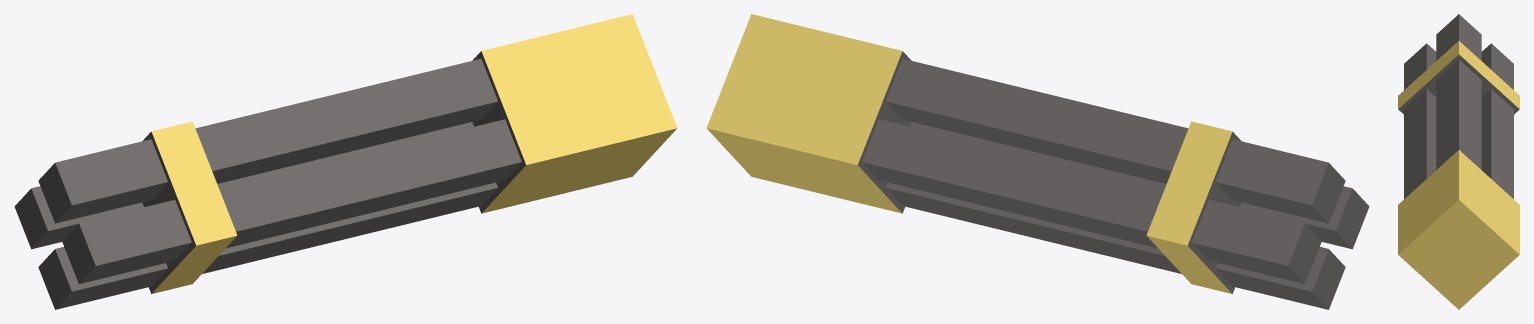
Rendered from dante_barrelfbx.fbx.
3 renders of one model, left to right at view 1: azimuth 30°, elevation 25°; view 2: azimuth 150°, elevation 25°; view 3: azimuth 270°, elevation 25°, orthographic. The views are drawn at different scales.
Visible parts, largest first — view 1: mesh, mesh_1, mesh_3, mesh_2, mesh_5, mesh_4; view 2: mesh, mesh_4, mesh_3, mesh_2, mesh_5, mesh_1; view 3: mesh, mesh_3, mesh_1, mesh_4, mesh_5.
Part boxes in pixels (x1=…): mesh: x1=472, y1=14, x2=677, y2=213; mesh_1: x1=62, y1=119, x2=521, y2=283; mesh_3: x1=38, y1=58, x2=497, y2=223; mesh_2: x1=38, y1=182, x2=497, y2=309; mesh_5: x1=142, y1=121, x2=237, y2=293; mesh_4: x1=14, y1=122, x2=473, y2=249; mesh: x1=706, y1=14, x2=911, y2=213; mesh_4: x1=862, y1=119, x2=1321, y2=283; mesh_3: x1=886, y1=58, x2=1345, y2=223; mesh_2: x1=886, y1=182, x2=1345, y2=309; mesh_5: x1=1146, y1=121, x2=1241, y2=293; mesh_1: x1=910, y1=122, x2=1369, y2=249; mesh: x1=1398, y1=150, x2=1519, y2=309; mesh_3: x1=1436, y1=14, x2=1481, y2=169; mesh_1: x1=1404, y1=43, x2=1436, y2=198; mesh_4: x1=1481, y1=43, x2=1513, y2=198; mesh_5: x1=1398, y1=41, x2=1519, y2=114.
Size of the model in its own units: 65.62 by 17.68 by 17.68.
Materials: 1 (1 with a texture image).
